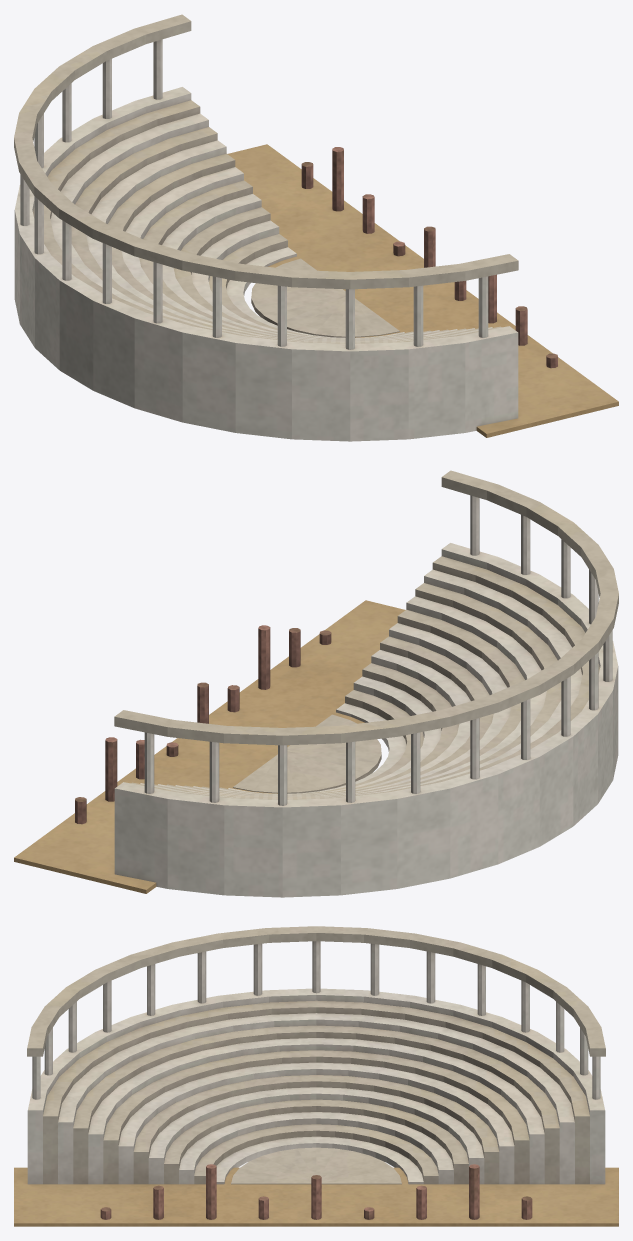
The model's file is teater_tex.glb.
3 renders of one model, top to bottom at view 1: azimuth 30°, elevation 25°; view 2: azimuth 150°, elevation 25°; view 3: azimuth 270°, elevation 25°, orthographic. The views are drawn at different scales.
Visible parts, largest first — view 1: teater; view 2: teater; view 3: teater.
Boxes of the visible parts, left/top/right/bottom form: teater: left=14, top=14, right=618, bottom=441; teater: left=14, top=470, right=618, bottom=897; teater: left=14, top=926, right=618, bottom=1226.
Size of the model in its own units: 29 by 11.7 by 46.
4 materials, 4 textured.
